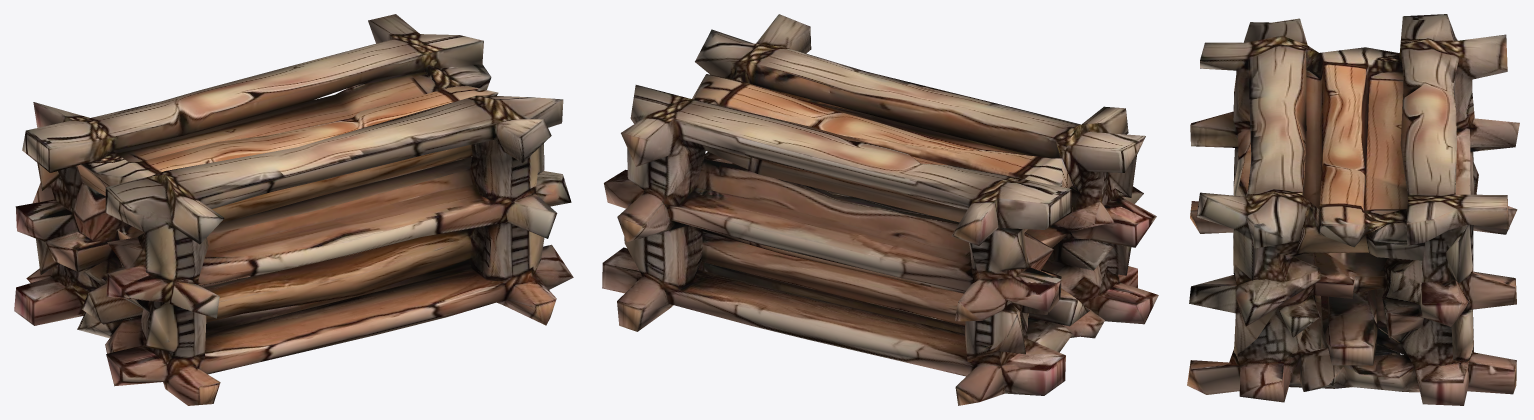
File: planks1..glb
3 views of the same model, side by side, from view 1: azimuth 30°, elevation 25°; view 2: azimuth 150°, elevation 25°; view 3: azimuth 270°, elevation 25° (orthographic). The views are drawn at different scales.
Size of the model in its own units: 2 by 0.871 by 1.32.
Materials: 1 (1 with a texture image).
